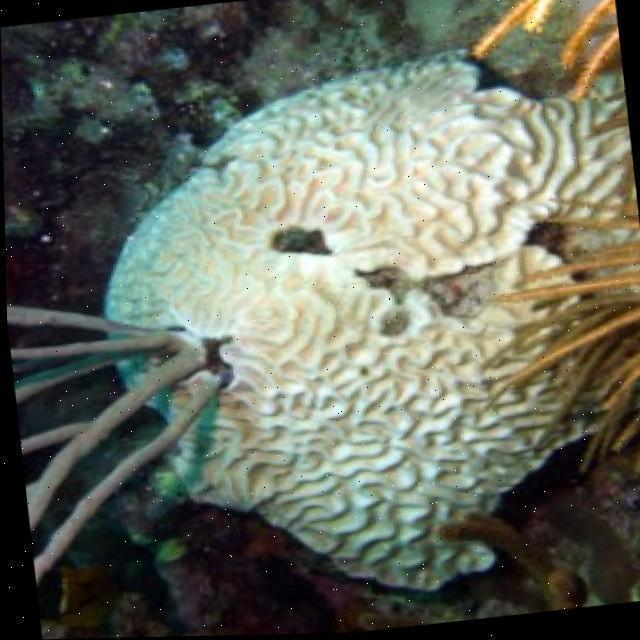Bleached Coral: (114, 48, 619, 595)
